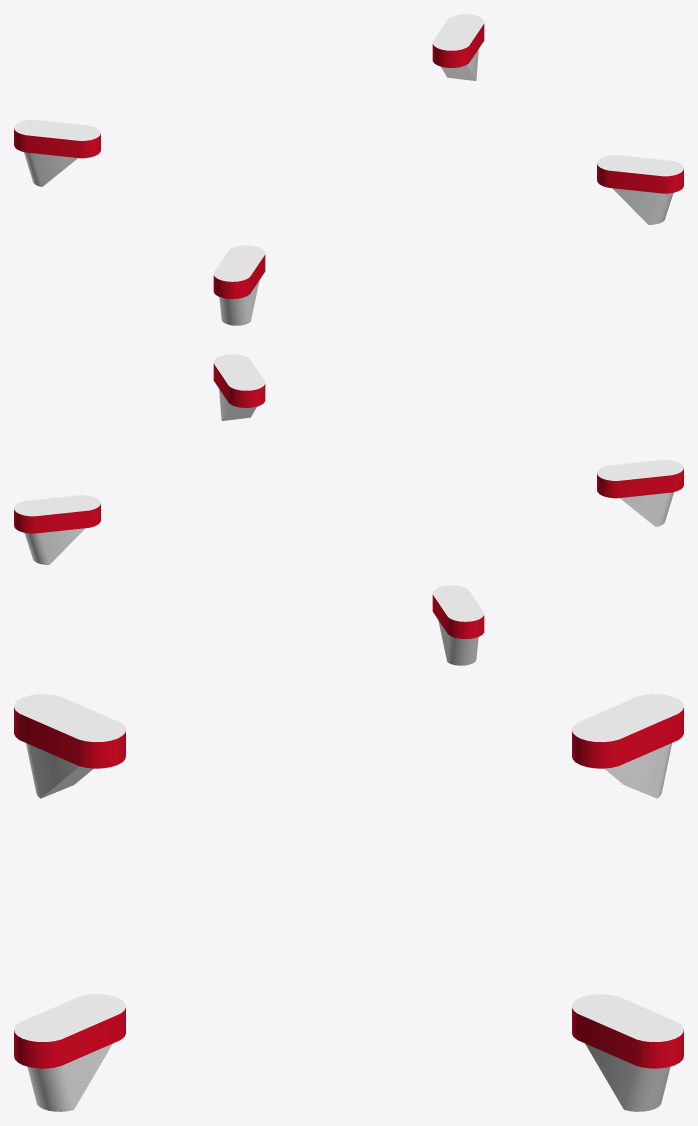
The model's file is RED_RED_Leg_A.glb.
3 renders of one model, top to bottom at view 1: azimuth 30°, elevation 25°; view 2: azimuth 150°, elevation 25°; view 3: azimuth 270°, elevation 25°, orthographic. The views are drawn at different scales.
Visible parts, largest first — view 1: RED_Leg_A; view 2: RED_Leg_A; view 3: RED_Leg_A.
Part boxes in pixels (x1,y1,x2,y2): RED_Leg_A: [14, 14, 683, 325]; RED_Leg_A: [14, 354, 683, 665]; RED_Leg_A: [14, 694, 683, 1111].
Bounding box in the file's own units: 0.3796 × 0.0404 × 0.3088.
